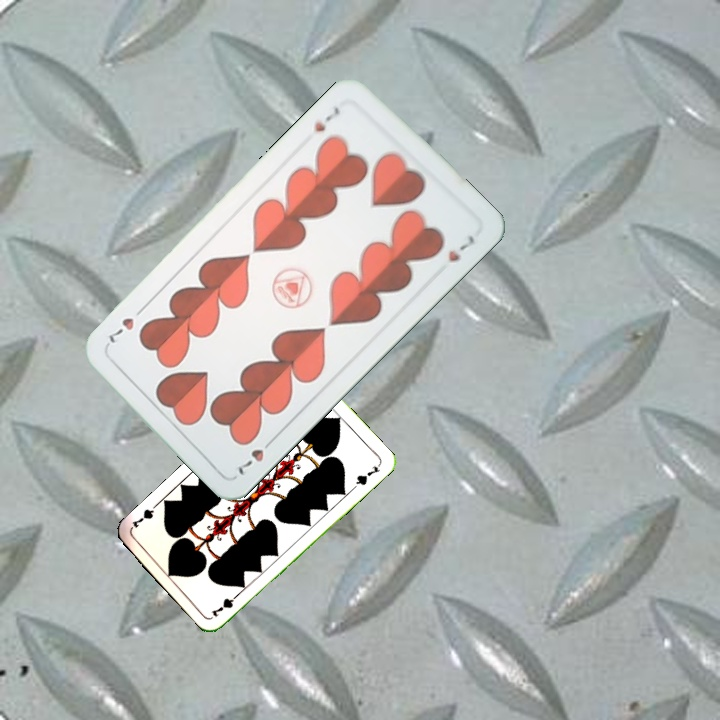G7: (207, 588, 243, 619)
H7: (234, 433, 278, 478), (310, 102, 343, 135)
